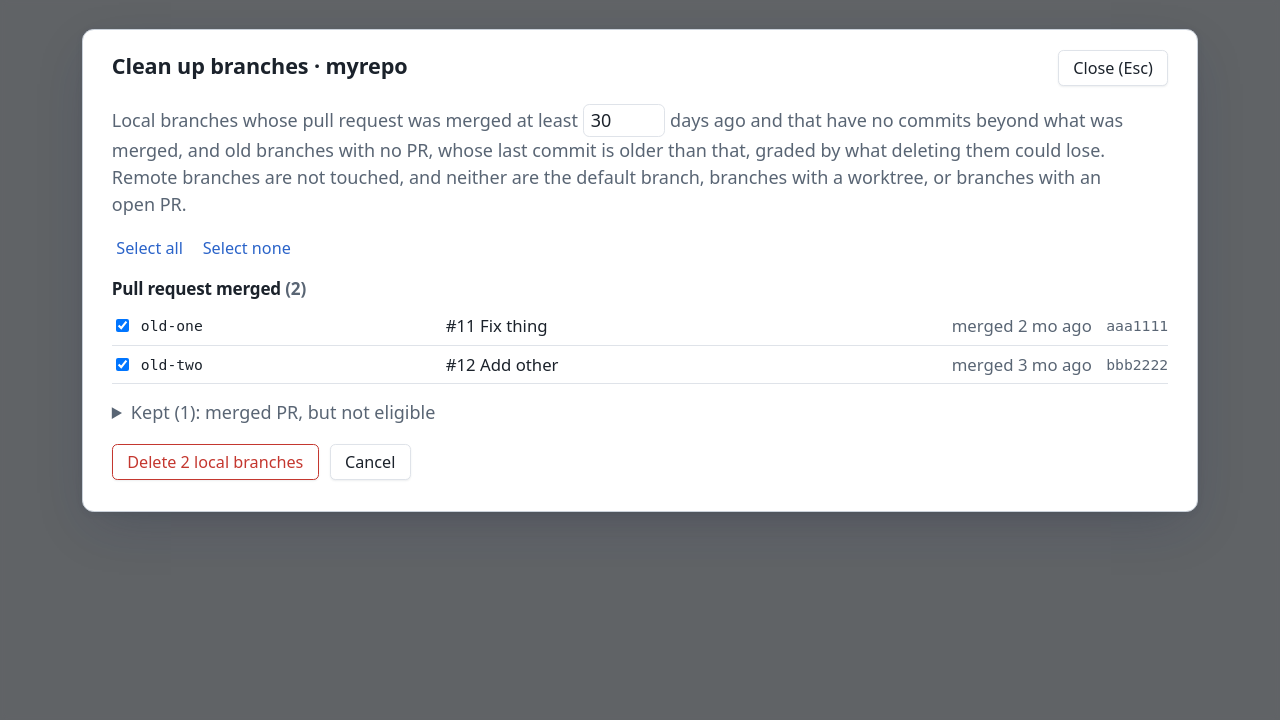
CleanupModal › shows an error if the request fails and keeps the list
Step 1. Click the button "Delete 2 local branches" → (215, 462), box [112,444,319,480]
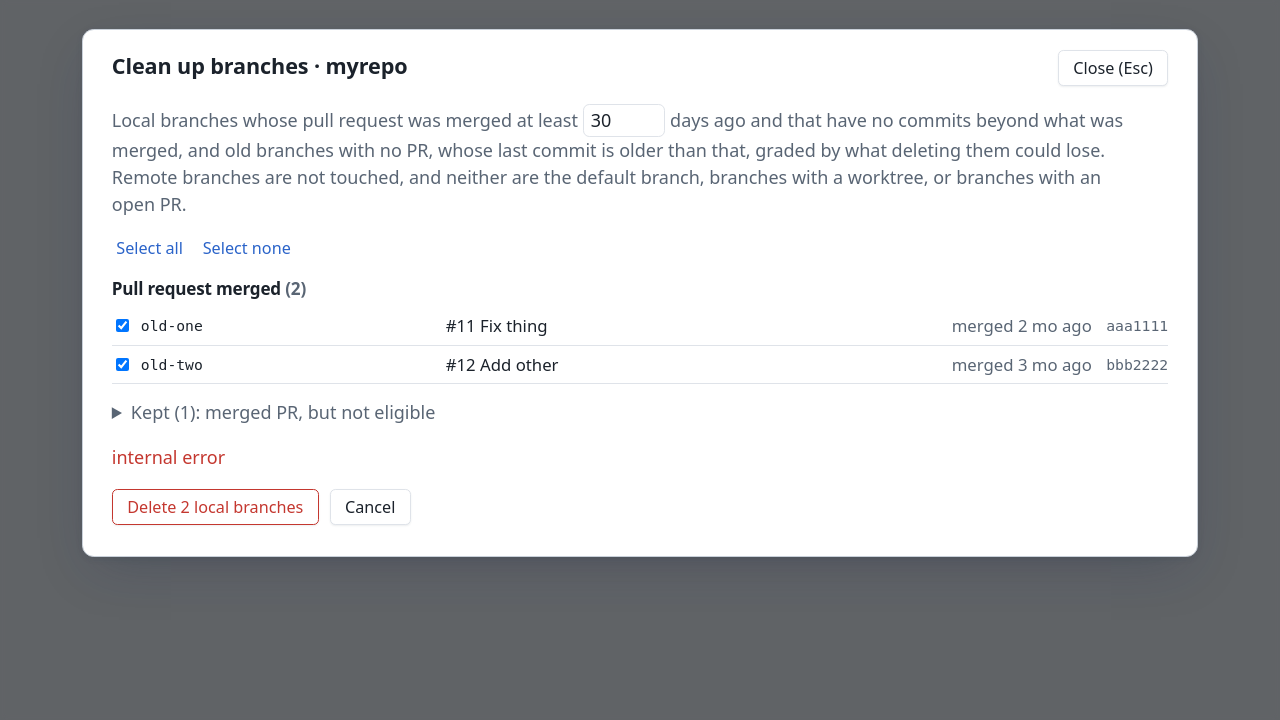
Expected: the number of checkboxes is 2, [116,319,129,332]; [116,358,129,371]
Expected: the text "internal error" is shown, [112,445,225,469]
